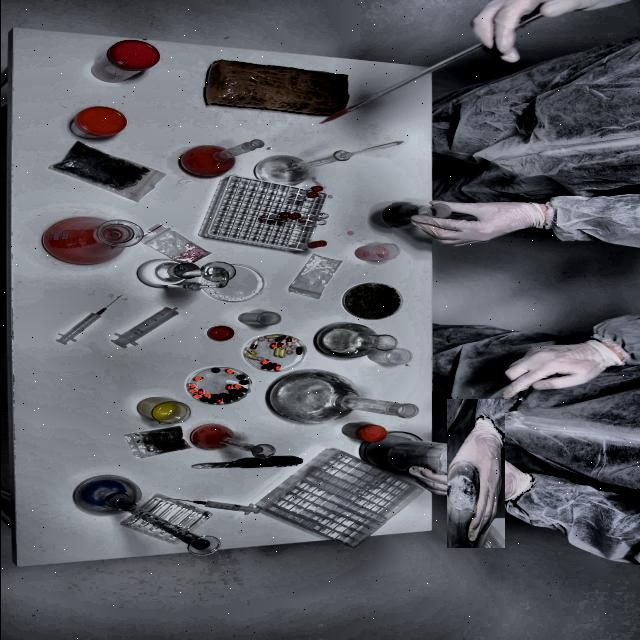gloved: (458, 0, 621, 74), (423, 422, 528, 526), (490, 329, 628, 402), (391, 198, 552, 258)
